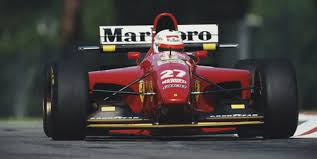FormulaOneCar: (37, 10, 301, 145)
